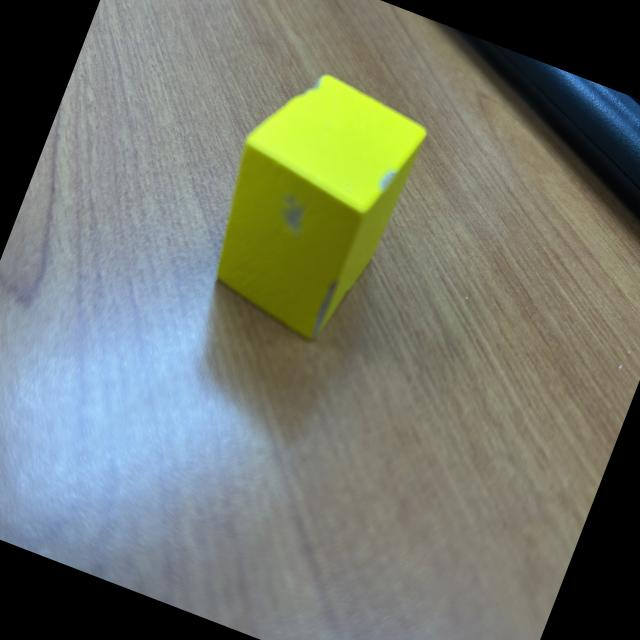broken: (185, 55, 435, 355)
